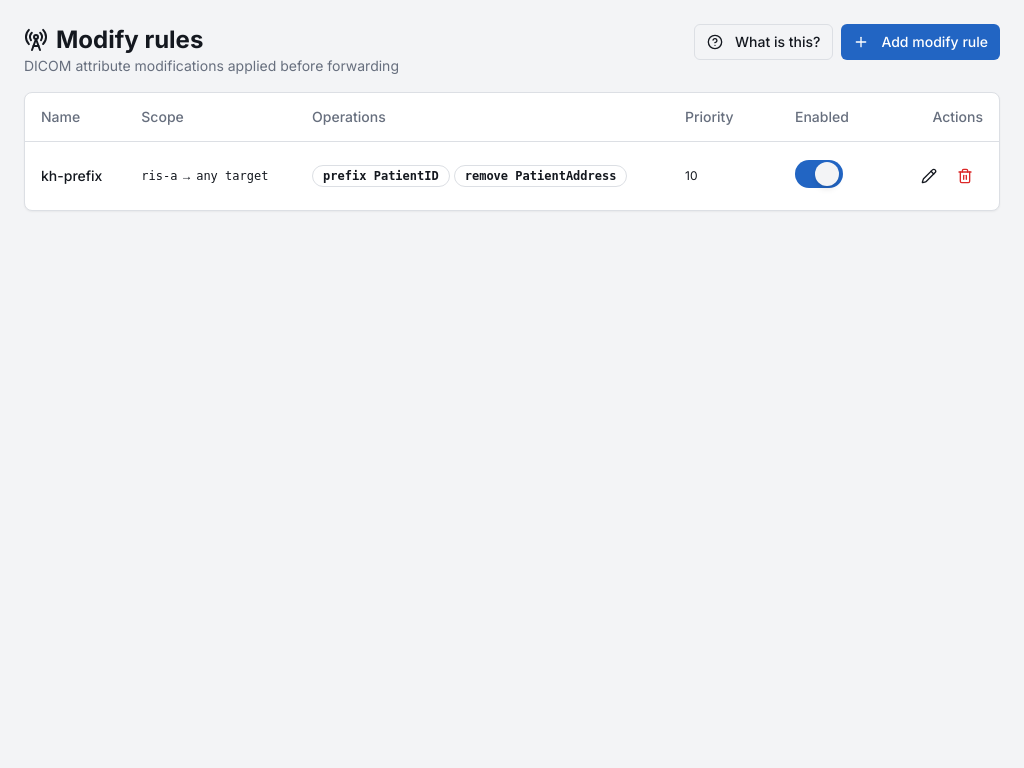
Test case: TransformsPage › adds and removes operations in the editor
Expected: the text "kh-prefix" is shown, [25,141,125,210]
Click the button "Add modify rule" at (921, 42), box [841,24,1000,60]
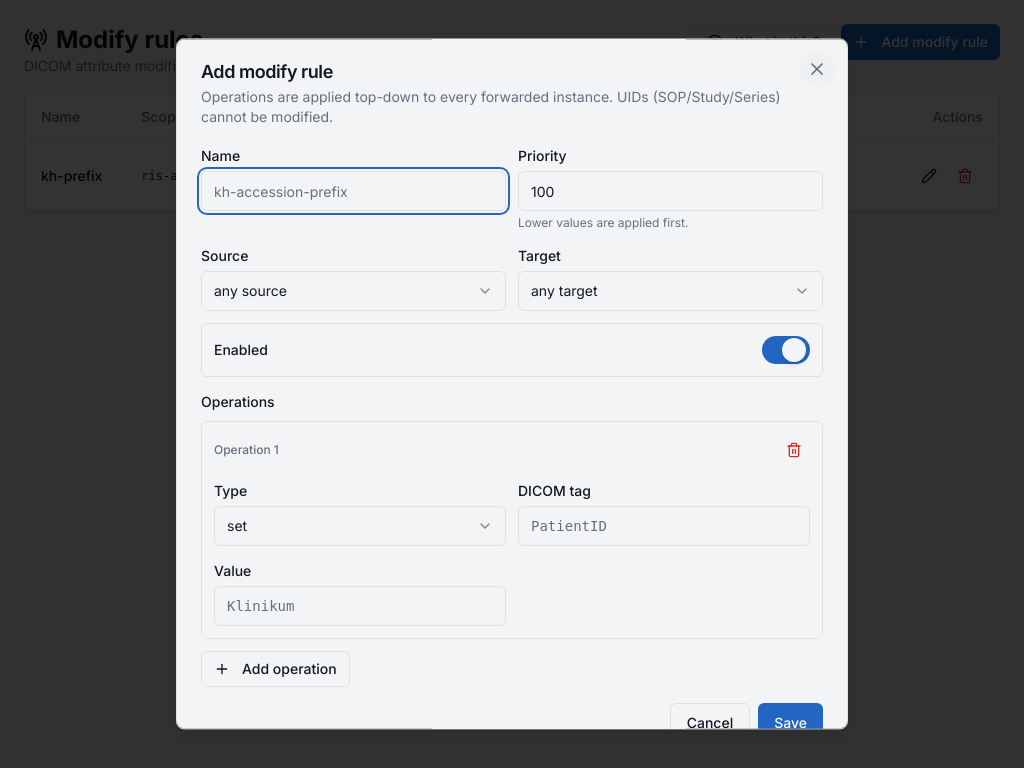
Result: the text "Operation 1" is shown at [214,442,279,458]
Click the button "Add operation" at (275, 669), box [201,651,350,687]
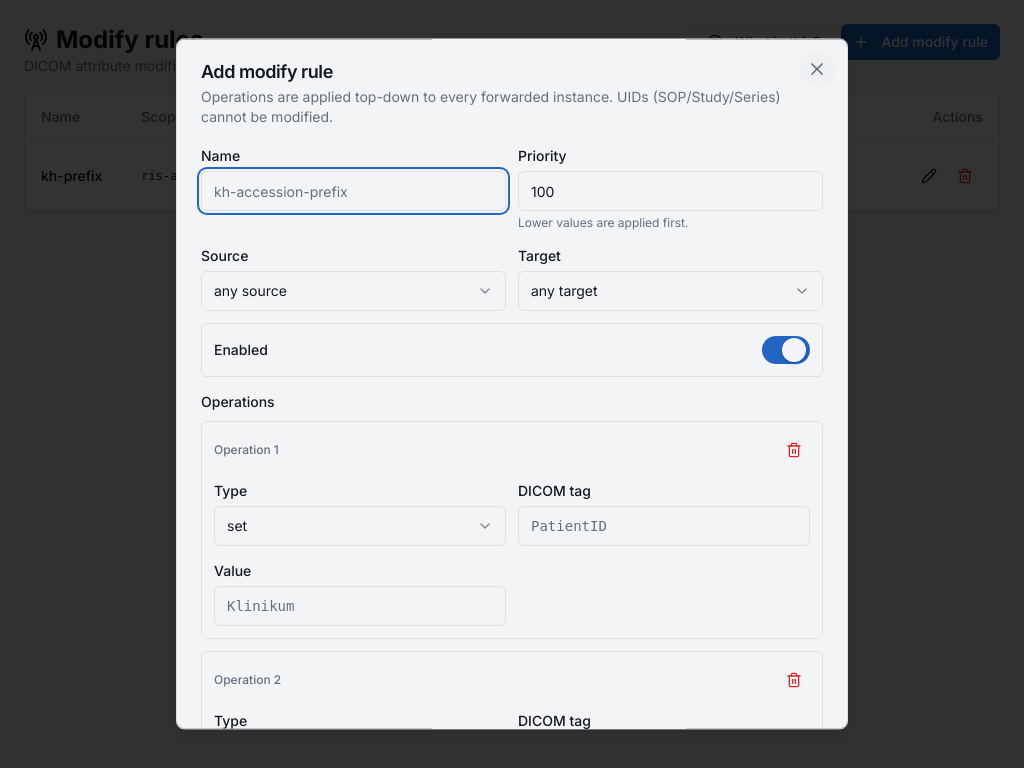
Result: the text "Operation 2" is shown at [214,672,281,688]
Click the button named "remove operation" in the row of "Operation 2" at (794, 680), box [778,664,810,696]
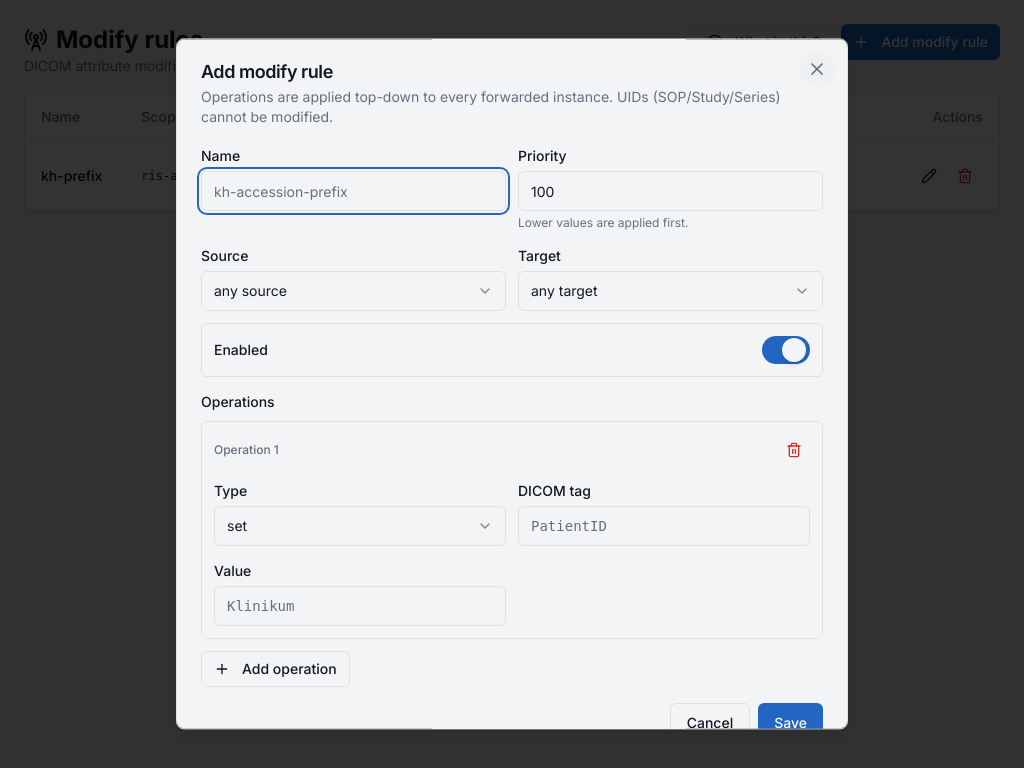
Result: the text "Operation 2" is gone
